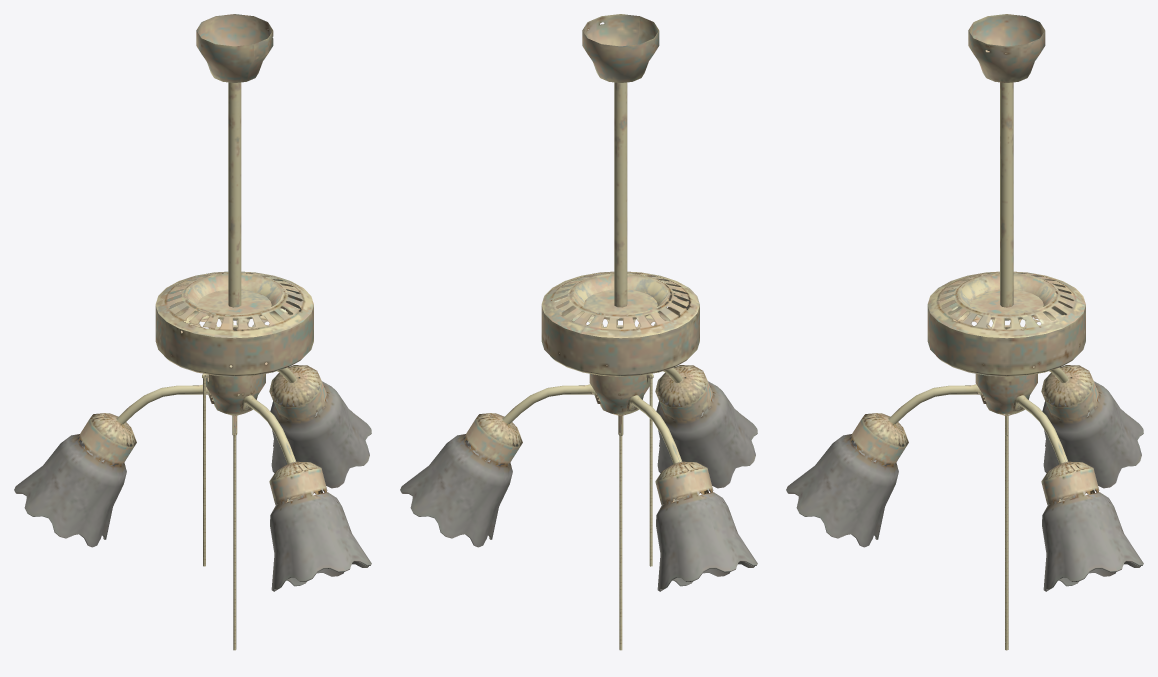
File: sm35_050_ceilinglight01a.fbx
3 views of the same model, side by side, from view 1: azimuth 30°, elevation 25°; view 2: azimuth 150°, elevation 25°; view 3: azimuth 270°, elevation 25° (orthographic).
Visible parts, largest first — view 1: LOD_1_Group_0_Sub_2__sm35_050_CeilingLight01A_C_Mat__Env_Emi, LOD_1_Group_0_Sub_1__sm35_050_CeilingLight01A_C_Mat, LOD_1_Group_1_Sub_1__sm35_050_CeilingLight01A_C_Mat; view 2: LOD_1_Group_0_Sub_2__sm35_050_CeilingLight01A_C_Mat__Env_Emi, LOD_1_Group_0_Sub_1__sm35_050_CeilingLight01A_C_Mat, LOD_1_Group_1_Sub_1__sm35_050_CeilingLight01A_C_Mat; view 3: LOD_1_Group_0_Sub_2__sm35_050_CeilingLight01A_C_Mat__Env_Emi, LOD_1_Group_0_Sub_1__sm35_050_CeilingLight01A_C_Mat, LOD_1_Group_1_Sub_1__sm35_050_CeilingLight01A_C_Mat.
Boxes of the visible parts, left/top/right/bottom form: LOD_1_Group_0_Sub_2__sm35_050_CeilingLight01A_C_Mat__Env_Emi: left=14, top=381, right=371, bottom=591; LOD_1_Group_0_Sub_1__sm35_050_CeilingLight01A_C_Mat: left=78, top=14, right=327, bottom=650; LOD_1_Group_1_Sub_1__sm35_050_CeilingLight01A_C_Mat: left=155, top=271, right=313, bottom=376; LOD_1_Group_0_Sub_2__sm35_050_CeilingLight01A_C_Mat__Env_Emi: left=400, top=381, right=757, bottom=591; LOD_1_Group_0_Sub_1__sm35_050_CeilingLight01A_C_Mat: left=464, top=14, right=713, bottom=650; LOD_1_Group_1_Sub_1__sm35_050_CeilingLight01A_C_Mat: left=541, top=271, right=699, bottom=376; LOD_1_Group_0_Sub_2__sm35_050_CeilingLight01A_C_Mat__Env_Emi: left=786, top=381, right=1143, bottom=591; LOD_1_Group_0_Sub_1__sm35_050_CeilingLight01A_C_Mat: left=850, top=14, right=1099, bottom=650; LOD_1_Group_1_Sub_1__sm35_050_CeilingLight01A_C_Mat: left=927, top=271, right=1085, bottom=376.
Bounding box in the file's own units: 0.8902 × 1.56 × 0.8019.
